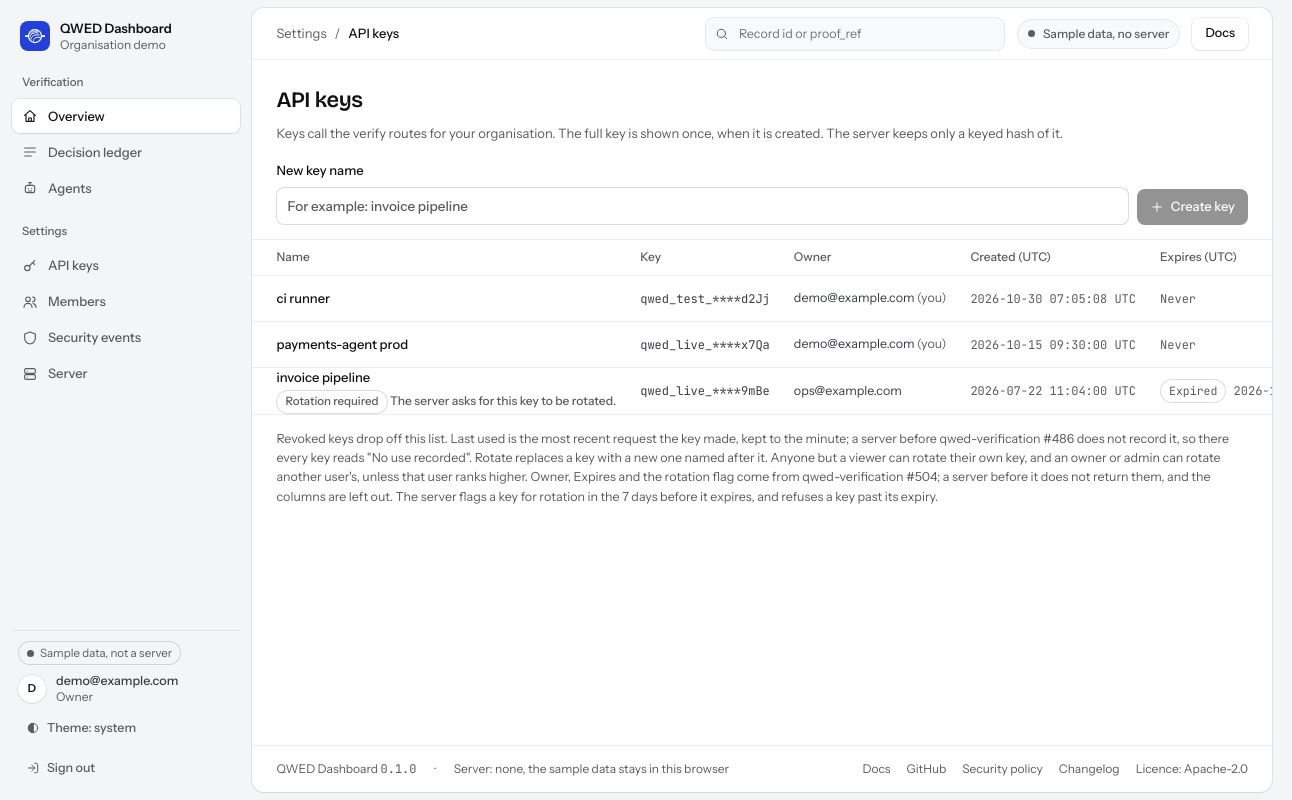
Test case: KeysPage › copies the key
Expected: the text "payments-agent prod" is shown, [252,322,628,368]
Type "copy me" into the field labelled "New key name" at {"x": 703, "y": 206}, box [276,187,1129,225]
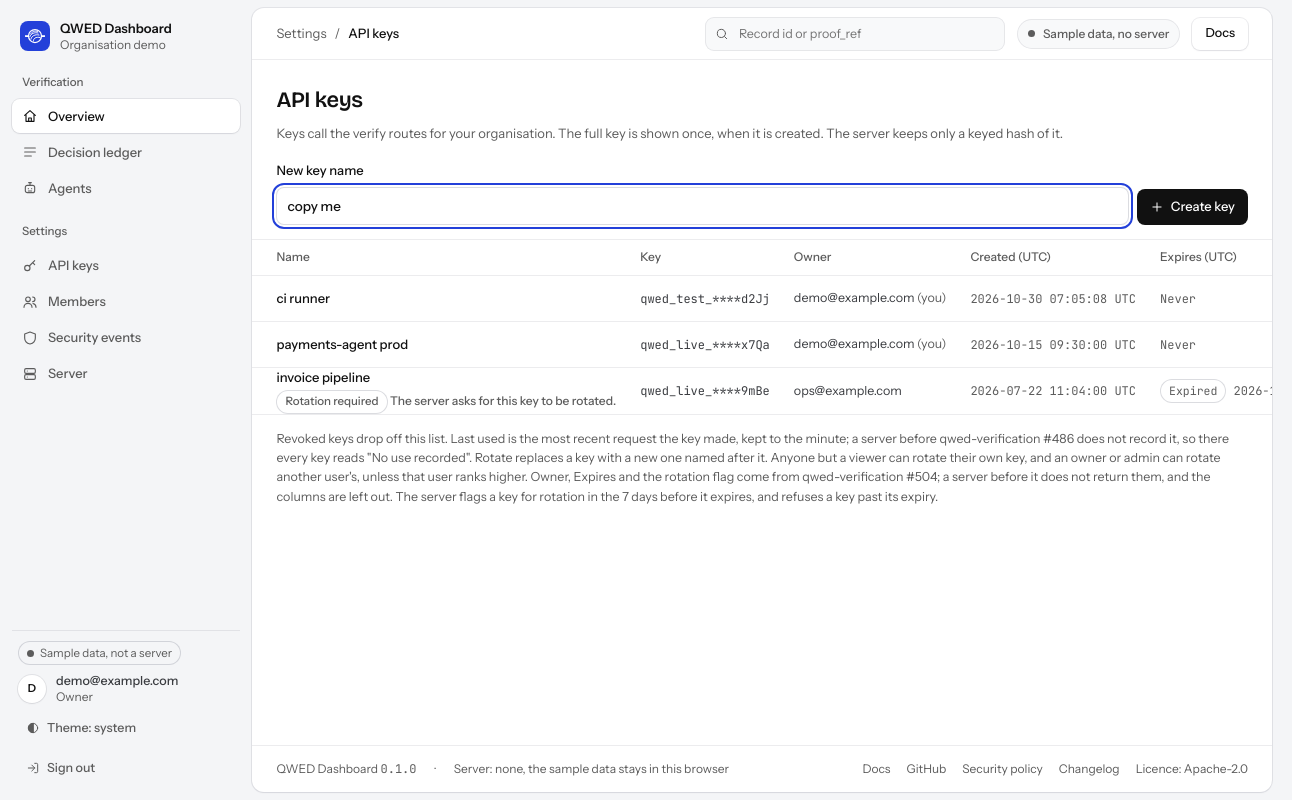
Click the button "Create key" at {"x": 1192, "y": 207}, box [1137,189,1248,225]
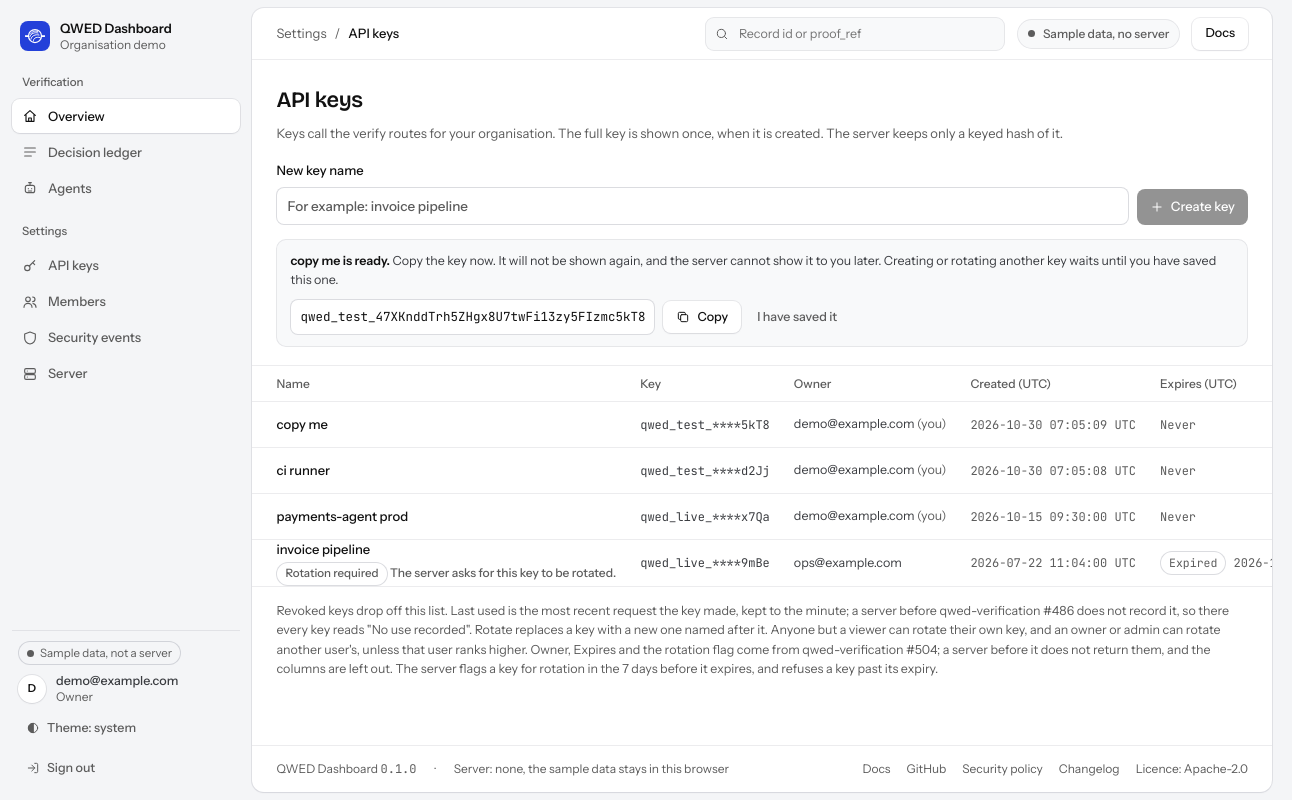
Click the button "Copy" at {"x": 702, "y": 317}, box [664,301,741,333]
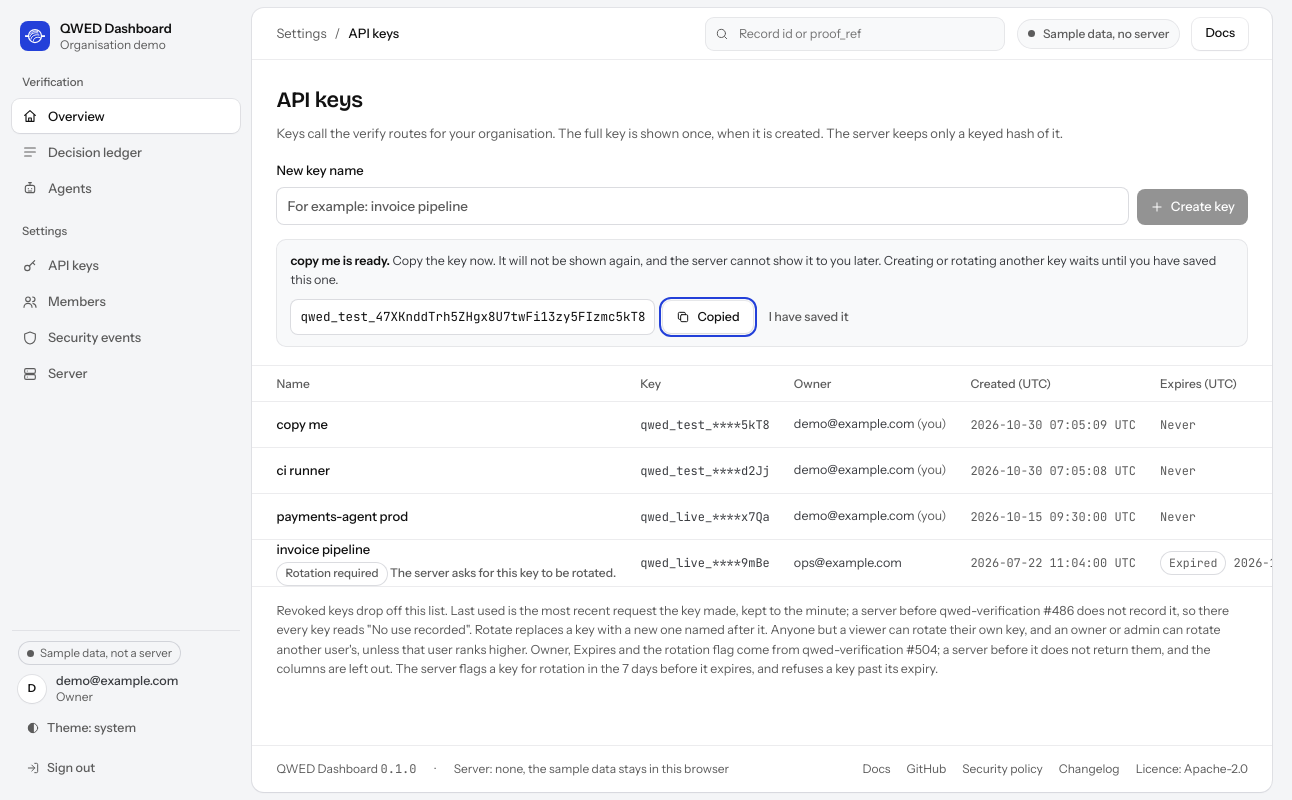
Now the button "Copied" is shown, box [664,301,753,333]
